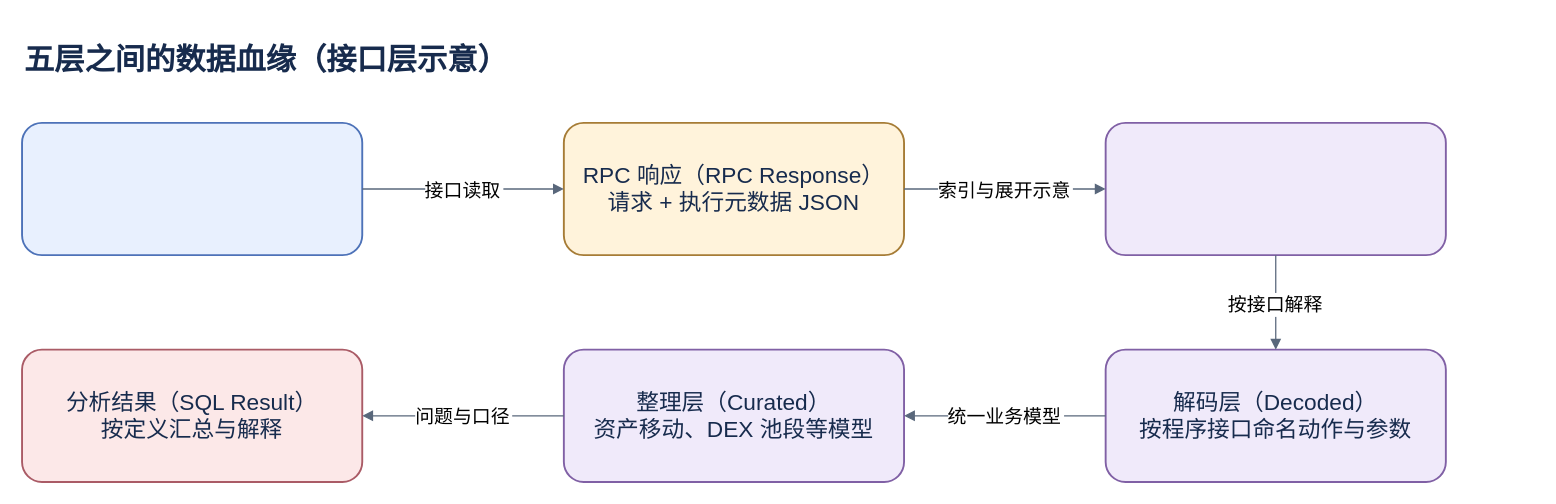
The diagram is 1556 pixels wide and 504 high, and some of its shapes have lost their labels. Here are the shapes that lost their labels. From the top down, the centre of each, then its label:
point (192, 188): 状态与账本（State / Ledger） 账户、交易、区块
point (1275, 188): 原始语义层（Raw / Canonical） 交易、调用与账户活动展开
